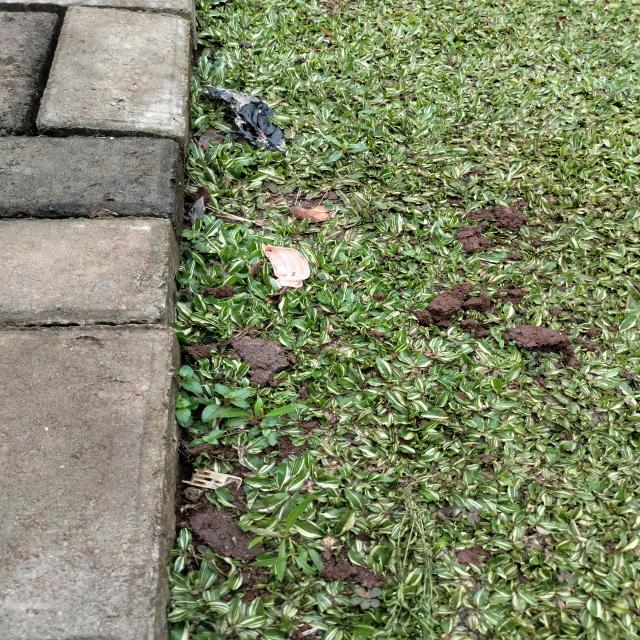buah daun: (348, 585, 388, 613), (179, 226, 210, 253), (418, 203, 431, 215)
clover: (268, 208, 280, 218)
gingseng jawa: (244, 495, 318, 583), (226, 404, 308, 423), (325, 133, 365, 161)
rambat atas: (341, 88, 352, 106)
rambat bawah: (445, 36, 465, 50)
tunggang tengah: (455, 505, 486, 522)
ungu tunggang: (208, 384, 252, 408), (245, 417, 280, 445), (176, 389, 200, 427), (177, 362, 204, 394), (187, 429, 228, 449), (403, 248, 424, 271)
